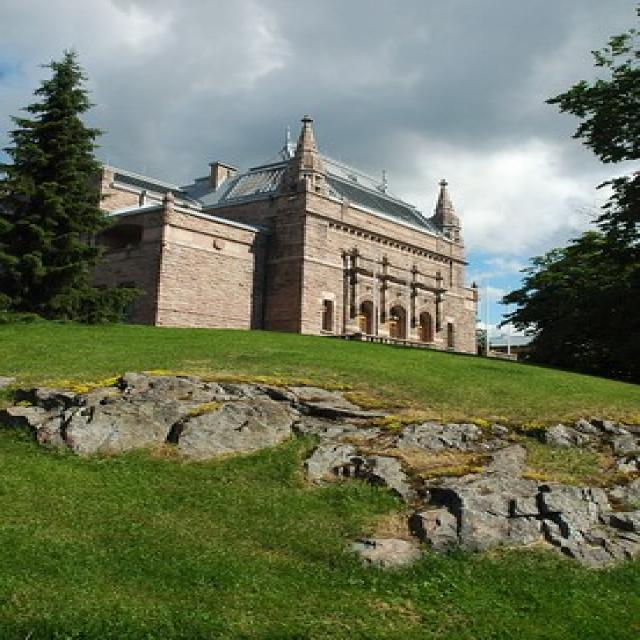Normal_building: (62, 111, 488, 358)
